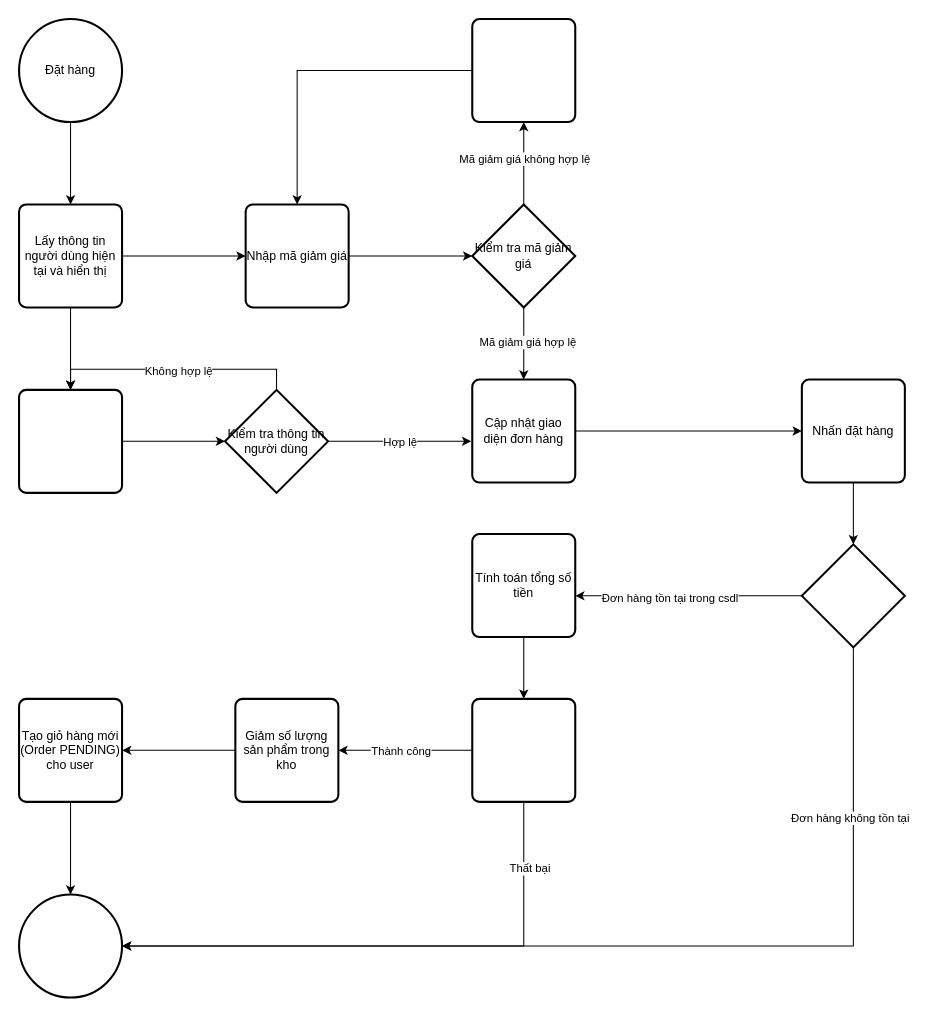
The diagram is 926 pixels wide and 1016 high, and some of its shapes have lost their labels. The shapes that lost their labels are listed below. From the top down, each one's box as (x1, y1, x2, y2) in pixels, then its label:
(471, 18, 576, 123): Thông báo cho người dùng, khoá nút đặt hàng
(18, 388, 123, 493): Thay đổi thông tin người dùng
(800, 543, 905, 648): Kiểm tra dữ liệu đơn hàng
(471, 697, 576, 802): Lưu trữ đơn hàng và chuyển trạng thái PROCESSING
(18, 893, 123, 998): End
